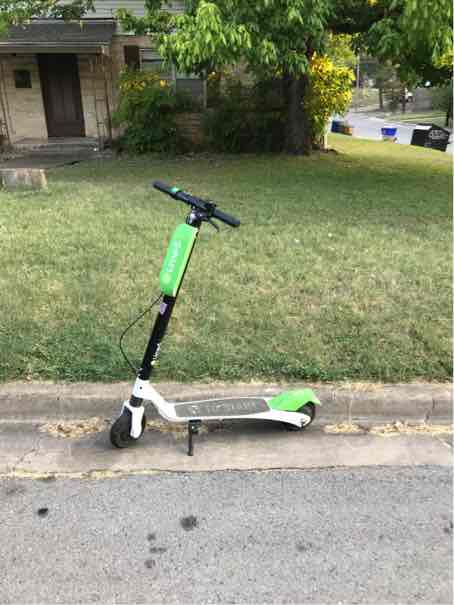scooter: (105, 174, 326, 454)
